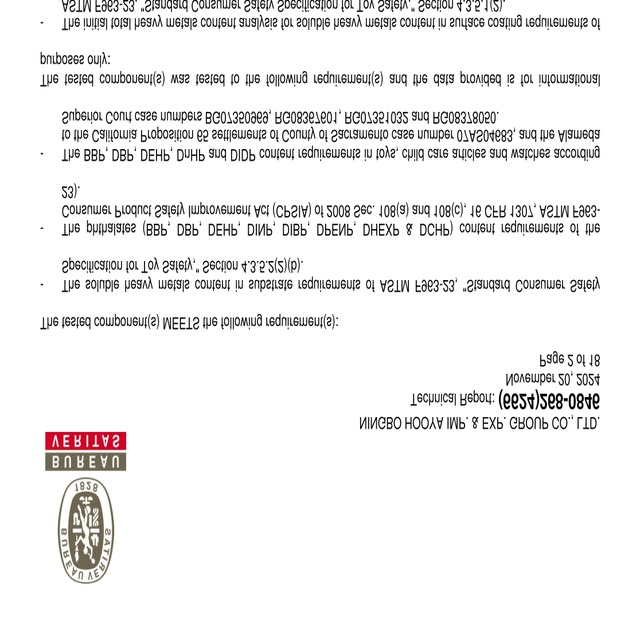bureau_veritas: (43, 430, 127, 586)
